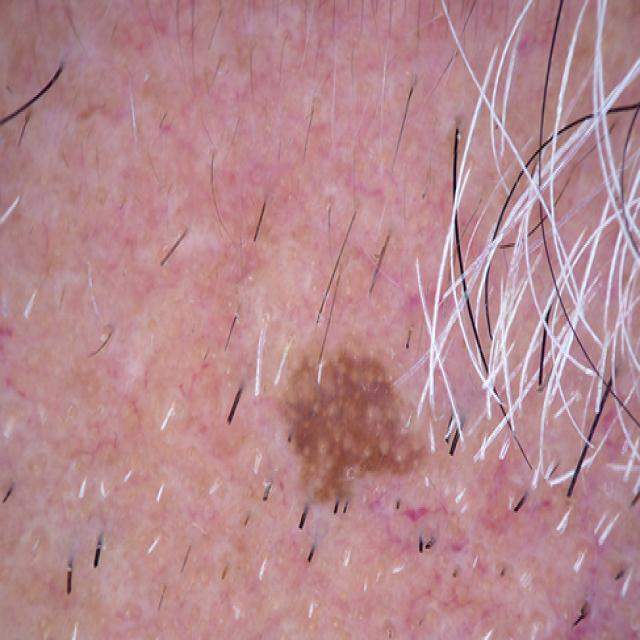Keratosis: (279, 312, 489, 568)
